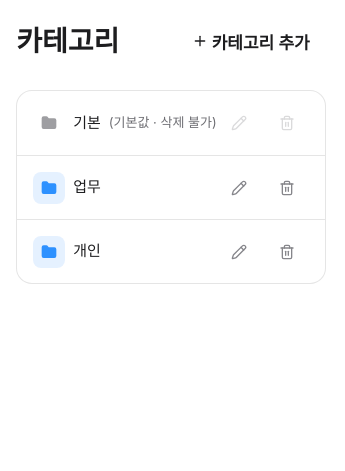
Test: CategoriesPage › CATEGORY_NAME_DUPLICATE 에러 시 오류 메시지가 표시된다
Click the button "카테고리 추가". click: point(251, 41)
box: [176,16,326,66]
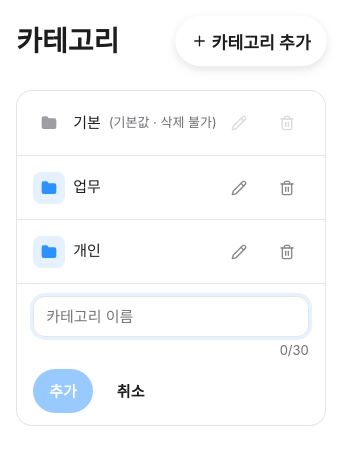
Type "업무" into the field. click: point(171, 316)
box: [33,296,309,337]
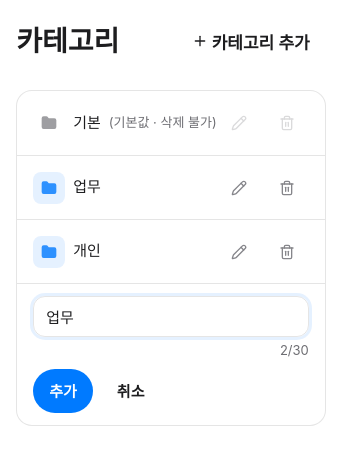
Click the button "추가". click: point(63, 390)
box: [33,368,93,412]
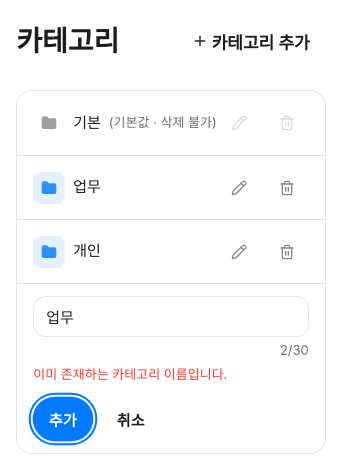
Check: the text "이미 존재하는 카테고리 이름입니다." is shown, box [33,366,227,382]
